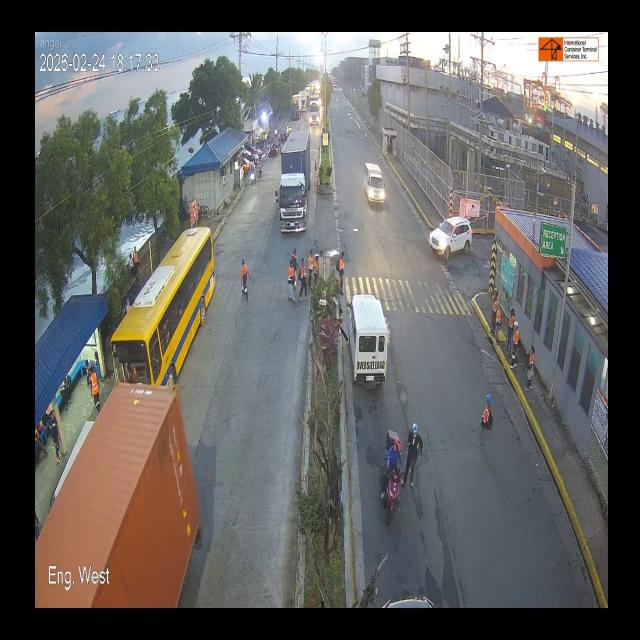bus: (108, 223, 220, 388)
car: (346, 295, 392, 394), (425, 205, 485, 268), (359, 158, 389, 215)
motorcycle: (371, 429, 405, 530)
truck: (272, 127, 318, 239), (309, 92, 321, 124), (292, 95, 300, 123)
